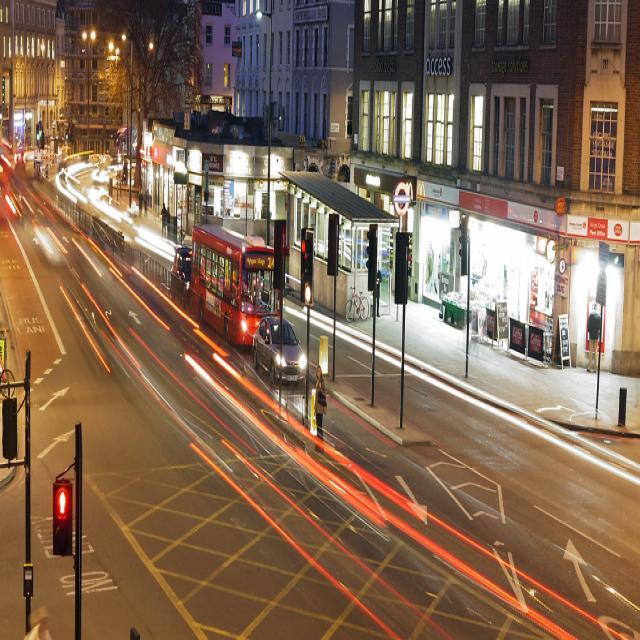traffic light: (299, 236, 313, 306)
